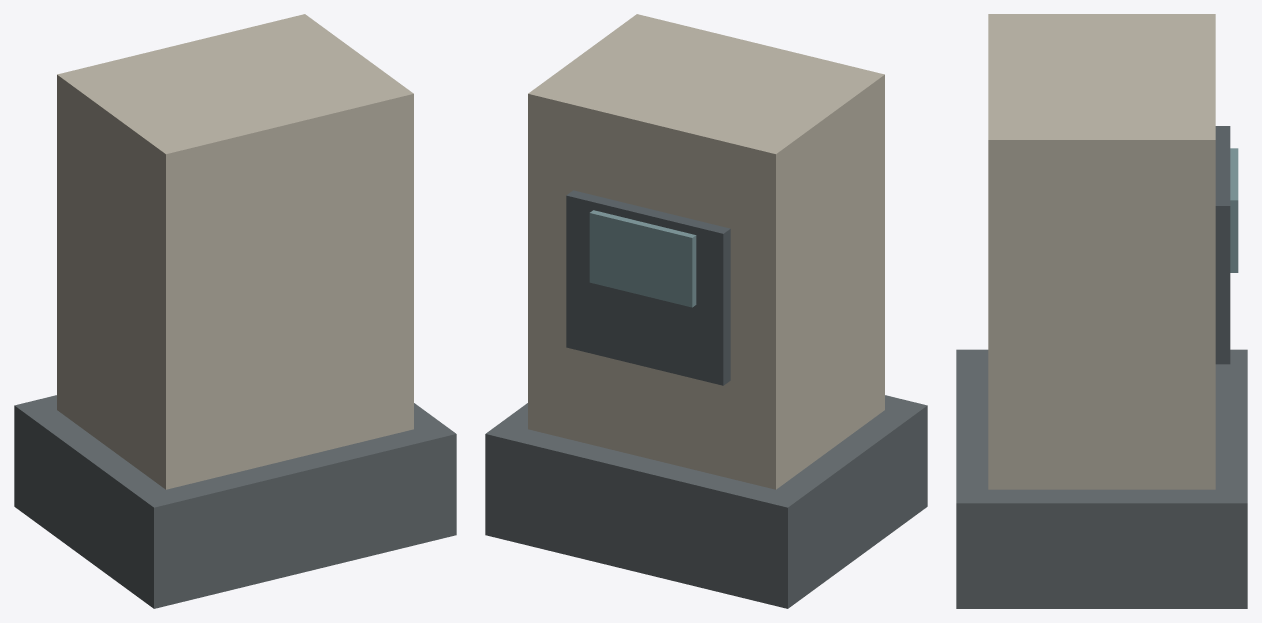
File: iz3_production_filter_01.glb
The picture shows the model from 3 angles, left to right: view 1: azimuth 30°, elevation 25°; view 2: azimuth 150°, elevation 25°; view 3: azimuth 270°, elevation 25°; orthographic projection. The views are drawn at different scales.
Parts seen in each view (by area): view 1: cabinet, base; view 2: cabinet, base, panel, display; view 3: cabinet, base, panel, display.
Part boxes in pixels (left/top/right/bottom): cabinet: left=57, top=14, right=413, bottom=489; base: left=14, top=395, right=456, bottom=608; cabinet: left=528, top=14, right=884, bottom=489; base: left=485, top=395, right=927, bottom=608; panel: left=566, top=190, right=730, bottom=385; display: left=589, top=210, right=696, bottom=307; cabinet: left=988, top=14, right=1215, bottom=489; base: left=956, top=349, right=1247, bottom=608; panel: left=1215, top=126, right=1230, bottom=364; display: left=1230, top=148, right=1238, bottom=272.
Bounding box in the file's own units: 1 × 1.38 × 0.8.
